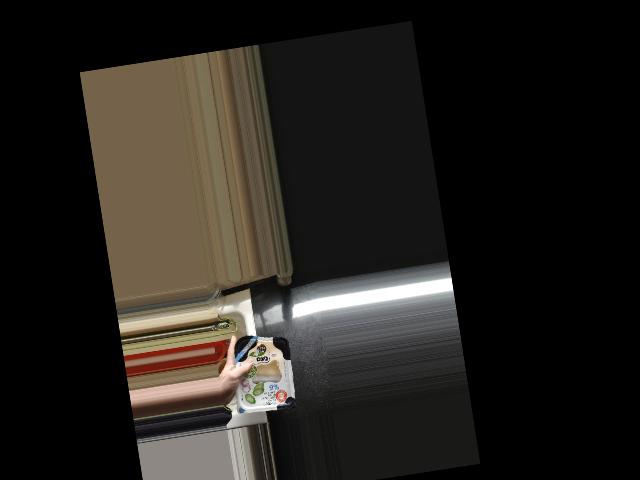cheese: (226, 329, 297, 413)
